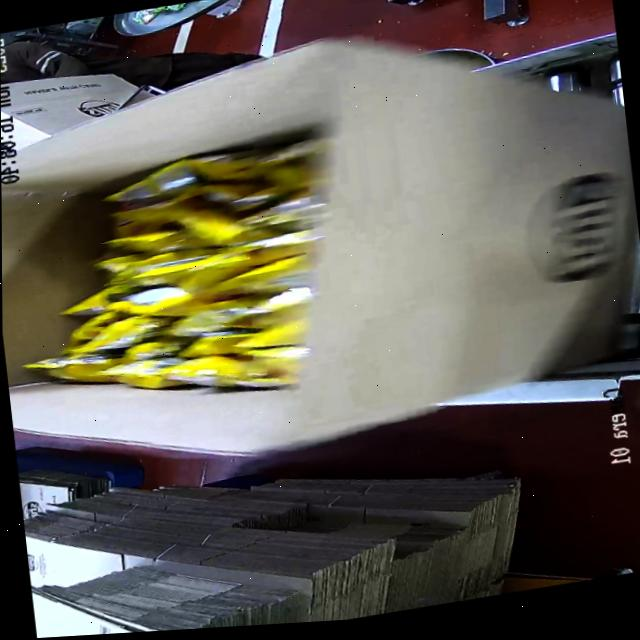SALTED: (16, 127, 336, 410)
